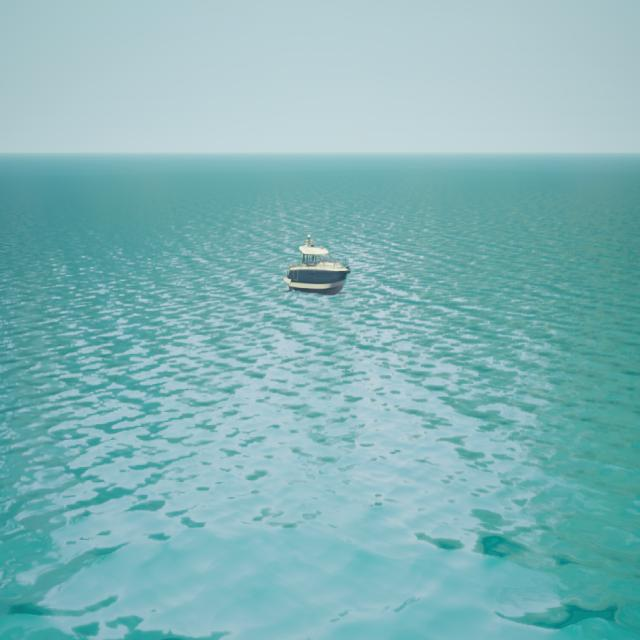ship: (286, 235, 351, 293)
